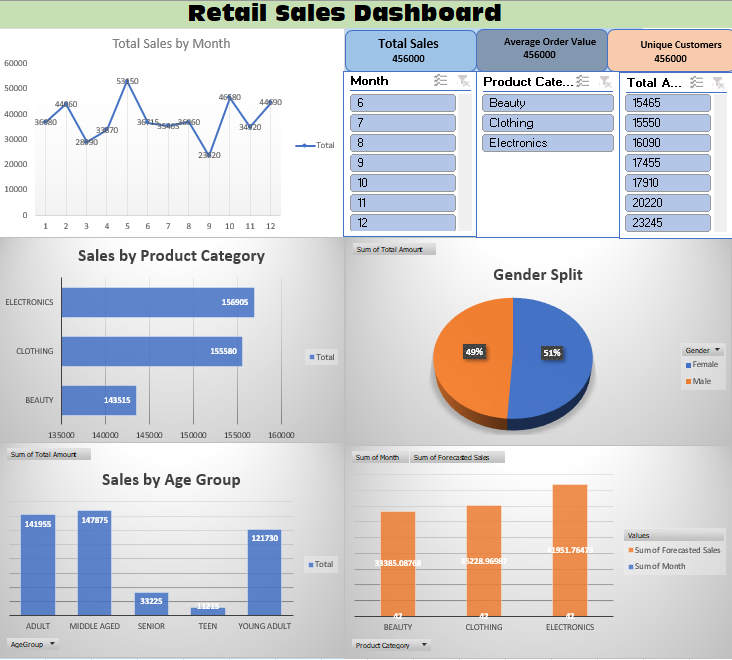

This screenshot's page, from the dashboard's own definition file:
{"tool":"powerbi","page":{"name":"Dashboard","canvas":[1280,720],"ordinal":5},"visuals":[{"type":"card","fields":{"Values":["Sum(cleaned_sales_data.Total Amount)"]},"box":[0,54.9,279.9,279.9],"z":0},{"type":"card","fields":{"Values":["Avg(cleaned_sales_data.Total Amount)"]},"box":[0,306,279.9,150.9],"z":1000},{"type":"card","fields":{"Values":["Count(cleaned_sales_data.Customer ID)"]},"box":[300.5,141.3,304.6,129],"z":2000},{"type":"lineChart","fields":{"Category":["monthly_sales.Month"],"Y":["Sum(monthly_sales.Total Amount)"]},"box":[300.5,289.5,279.9,167.4],"z":3000},{"type":"clusteredBarChart","fields":{"Category":["cleaned_sales_data.Product Category"],"Y":["Sum(cleaned_sales_data.Total Amount)"]},"box":[0,476.2,306,244.3],"z":4000},{"type":"columnChart","fields":{"Category":["cleaned_sales_data.Product Category"],"Y":["Sum(cleaned_sales_data.Quantity)"]},"box":[312.9,476.2,267.6,244.3],"z":5000},{"type":"pieChart","fields":{"Y":["Sum(cleaned_sales_data.Total Amount)"],"Category":["cleaned_sales_data.Gender"]},"box":[639.5,155.1,312.9,150.9],"z":6000},{"type":"clusteredColumnChart","fields":{"Category":["age_group_sales.AgeGroup"],"Y":["Sum(age_group_sales.Total Amount)"]},"box":[639.5,306,278.6,218.2],"z":7000},{"type":"lineChart","fields":{"Category":["forecast_output.Month"],"Y":["Sum(forecast_output.Forecasted Sales)"]},"box":[639.5,524.2,245.6,196.2],"z":8000},{"type":"slicer","fields":{"Values":["cleaned_sales_data.Product Category"]},"box":[967.4,141.3,278.6,218.2],"z":9000},{"type":"slicer","fields":{"Values":["cleaned_sales_data.Month"]},"box":[967,359,279,165],"z":10000},{"type":"slicer","fields":{"Values":["cleaned_sales_data.Gender"]},"box":[967,524,279,196],"z":11000},{"type":"textbox","box":[312.9,5.5,639.5,104.3],"z":12000}]}

Visuals, with their boxes on the page's 1280x720 design canvas (x1, y1, x2, y2). These are canvas units, not pixel positions in the 732x660 screenshot, which may show the page scaled, cropped or inside an application window:
card - Sum(cleaned_sales_data.Total Amount): 0/55/280/335
card - Avg(cleaned_sales_data.Total Amount): 0/306/280/457
card - Count(cleaned_sales_data.Customer ID): 300/141/605/270
lineChart - monthly_sales.Month x Sum(monthly_sales.Total Amount): 300/290/580/457
clusteredBarChart - cleaned_sales_data.Product Category x Sum(cleaned_sales_data.Total Amount): 0/476/306/720
columnChart - cleaned_sales_data.Product Category x Sum(cleaned_sales_data.Quantity): 313/476/580/720
pieChart - Sum(cleaned_sales_data.Total Amount) x cleaned_sales_data.Gender: 640/155/952/306
clusteredColumnChart - age_group_sales.AgeGroup x Sum(age_group_sales.Total Amount): 640/306/918/524
lineChart - forecast_output.Month x Sum(forecast_output.Forecasted Sales): 640/524/885/720
slicer - cleaned_sales_data.Product Category: 967/141/1246/360
slicer - cleaned_sales_data.Month: 967/359/1246/524
slicer - cleaned_sales_data.Gender: 967/524/1246/720
textbox: 313/6/952/110
